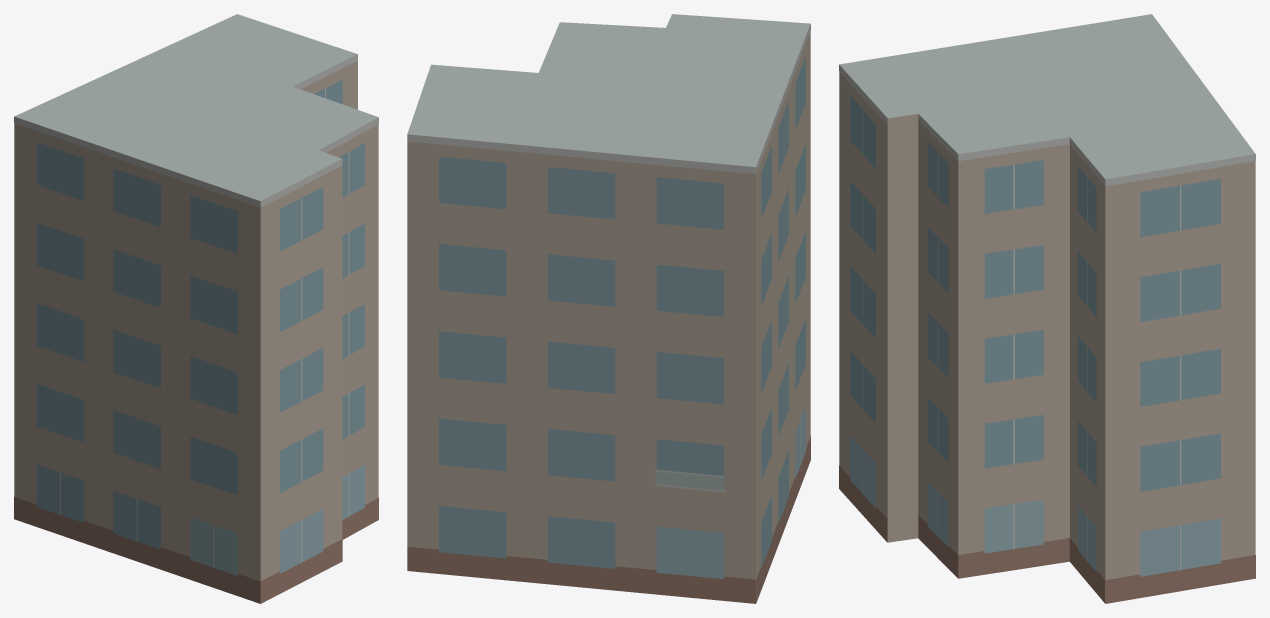
Rendered from survey-upis-32845011.glb.
3 renders of one model, left to right at view 1: azimuth 30°, elevation 25°; view 2: azimuth 150°, elevation 25°; view 3: azimuth 270°, elevation 25°, orthographic. The views are drawn at different scales.
Parts seen in each view (by area): view 1: survey-upis-32845011.tmp; view 2: survey-upis-32845011.tmp; view 3: survey-upis-32845011.tmp.
Part boxes in pixels (box(x1,y1,x2,y2)): survey-upis-32845011.tmp: box(14, 14, 378, 603); survey-upis-32845011.tmp: box(407, 14, 810, 603); survey-upis-32845011.tmp: box(839, 14, 1255, 603).
Bounding box in the file's own units: 12.55 × 15 × 13.36.
